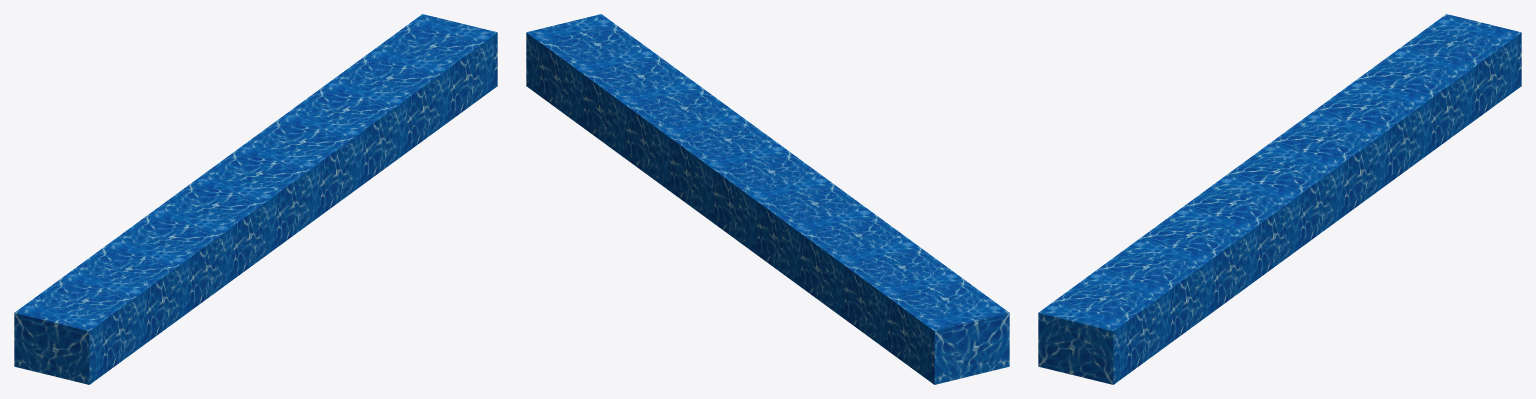
Rendered from shui_huangsanduan.obj.
3 renders of one model, left to right at view 1: azimuth 90°, elevation 25°; view 2: azimuth 150°, elevation 25°; view 3: azimuth 270°, elevation 25°, orthographic.
Size of the model in its own units: 37.78 by 2.98 by 24.34.
Materials: 1 (1 with a texture image).
